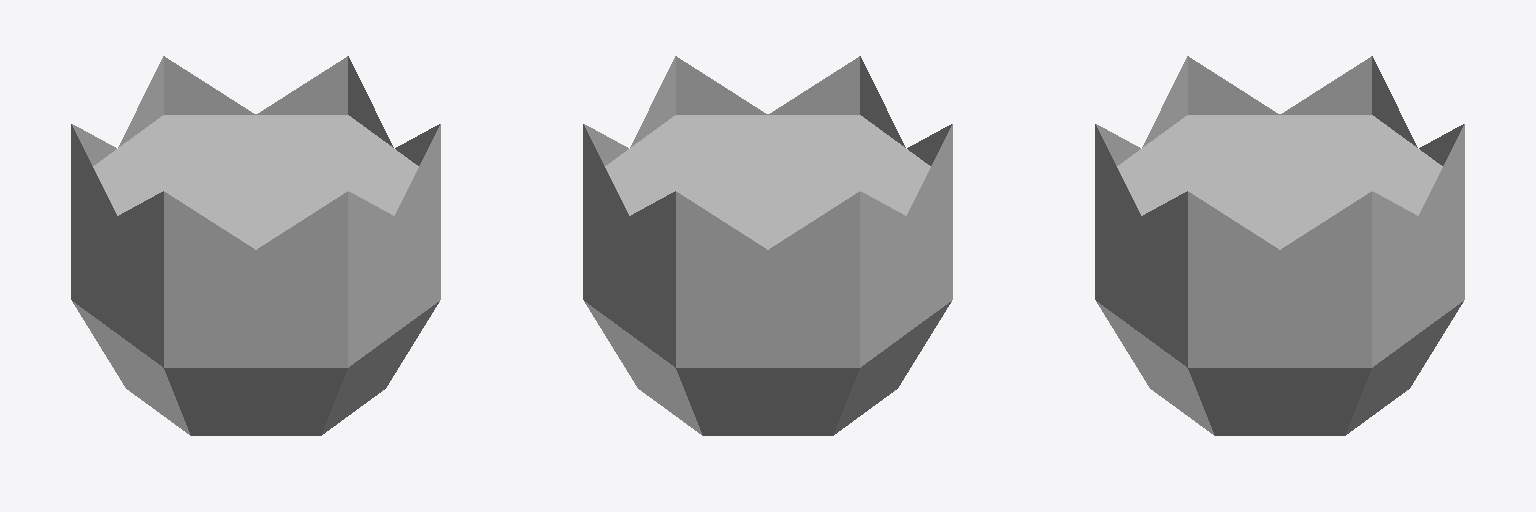
The model's file is egg-half.obj.
The picture shows the model from 3 angles: view 1: azimuth 30°, elevation 25°; view 2: azimuth 150°, elevation 25°; view 3: azimuth 270°, elevation 25°; orthographic projection.
Parts seen in each view (by area): view 1: egg-half; view 2: egg-half; view 3: egg-half.
Part boxes in pixels (left/top/right/bottom): egg-half: left=71, top=56, right=440, bottom=435; egg-half: left=583, top=56, right=952, bottom=435; egg-half: left=1095, top=56, right=1464, bottom=435.
Bounding box in the file's own units: 0.1161 × 0.1062 × 0.134.